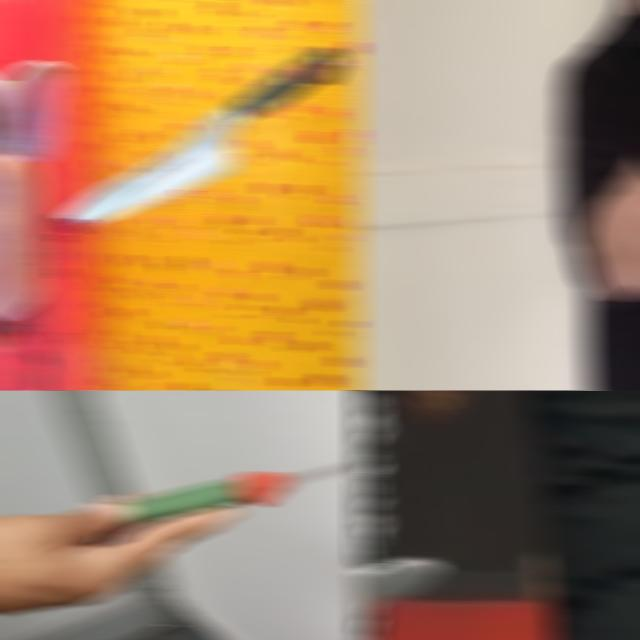Knife: (121, 460, 364, 526), (352, 558, 444, 606)
Knife_Handle: (352, 538, 442, 640)
